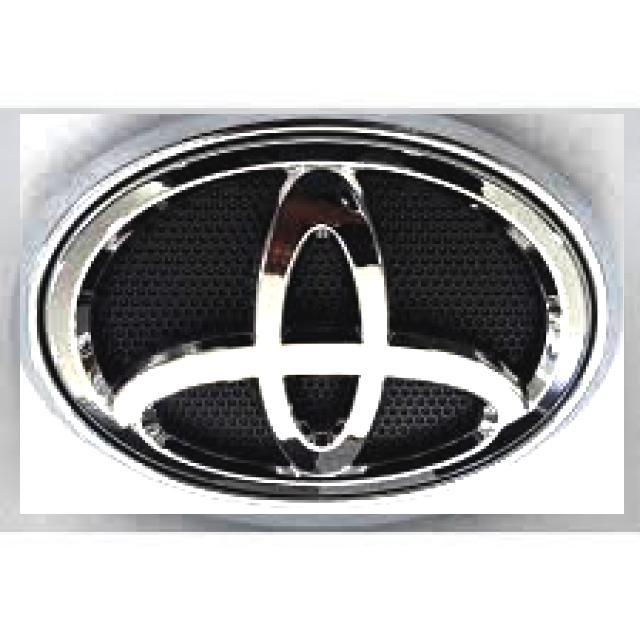toyota: (20, 114, 624, 514)
